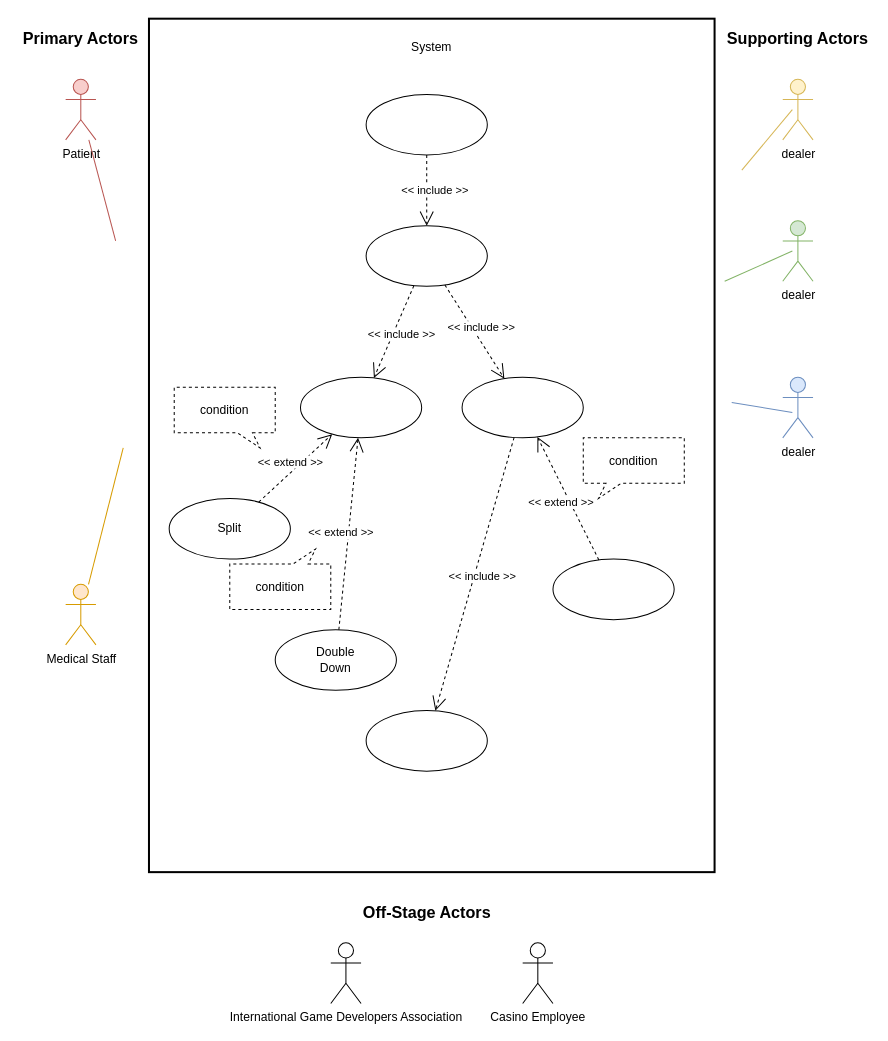
The diagram is 888 pixels wide and 1041 high, and some of its shapes have lost their labels. The shapes that lost their labels are listed below. From the top down, each one's box as (x1, y1, x2, y2) in pixels, then its label:
(365, 93, 487, 155): Bet
(365, 225, 487, 286): Start Round
(299, 376, 422, 438): Hit
(461, 376, 583, 438): Stand
(552, 558, 674, 620): Surrender
(365, 710, 487, 771): End Round
